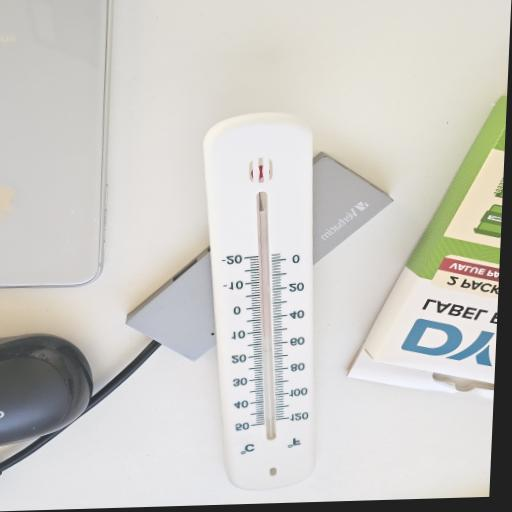thermometer: (187, 110, 334, 494)
